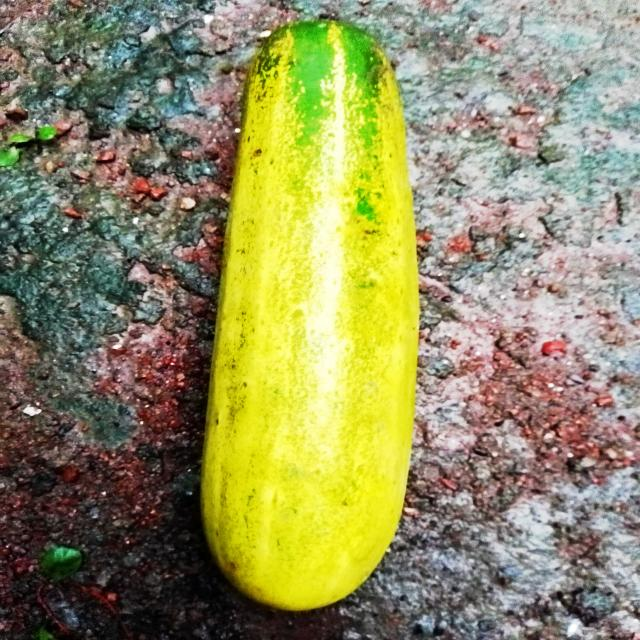Fresh-Cucumber: (200, 19, 422, 613)
